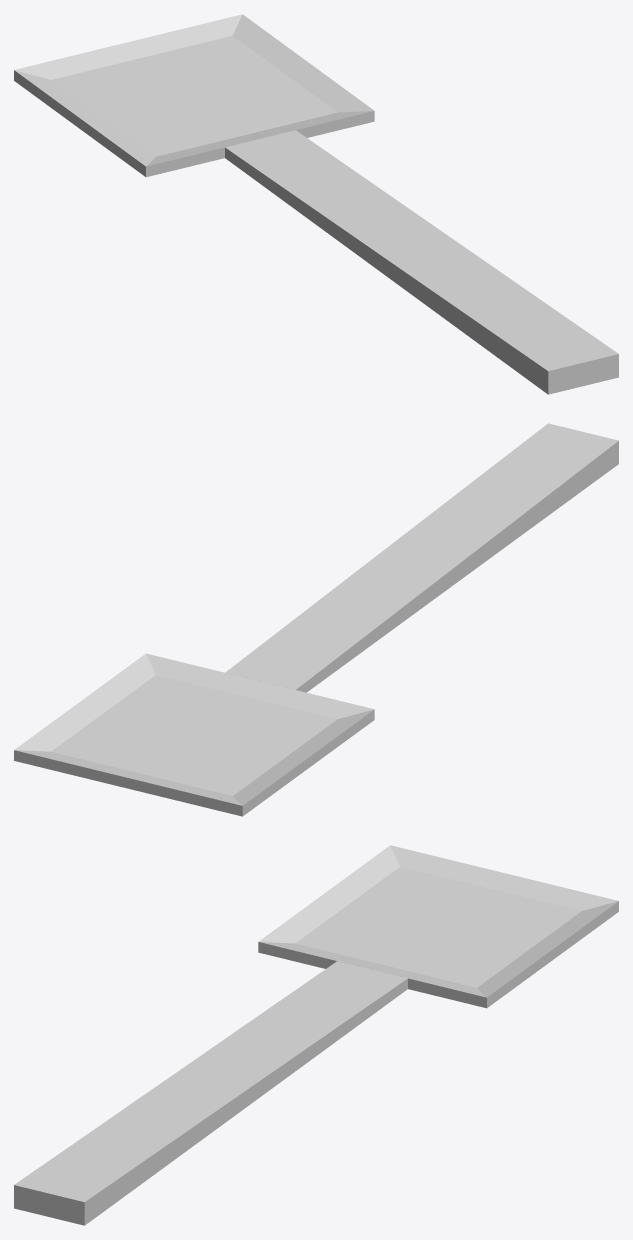
The model's file is Itr_Obj_Spoon_01.FBX.
3 renders of one model, top to bottom at view 1: azimuth 30°, elevation 25°; view 2: azimuth 150°, elevation 25°; view 3: azimuth 330°, elevation 25°, orthographic.
Parts seen in each view (by area): view 1: Itr_Obj_Spoon_01; view 2: Itr_Obj_Spoon_01; view 3: Itr_Obj_Spoon_01.
Part boxes in pixels (left/top/right/bottom): Itr_Obj_Spoon_01: left=14, top=14, right=618, bottom=394; Itr_Obj_Spoon_01: left=14, top=423, right=618, bottom=816; Itr_Obj_Spoon_01: left=14, top=845, right=618, bottom=1225.
Bounding box in the file's own units: 1.41 × 0.1387 × 4.87.
